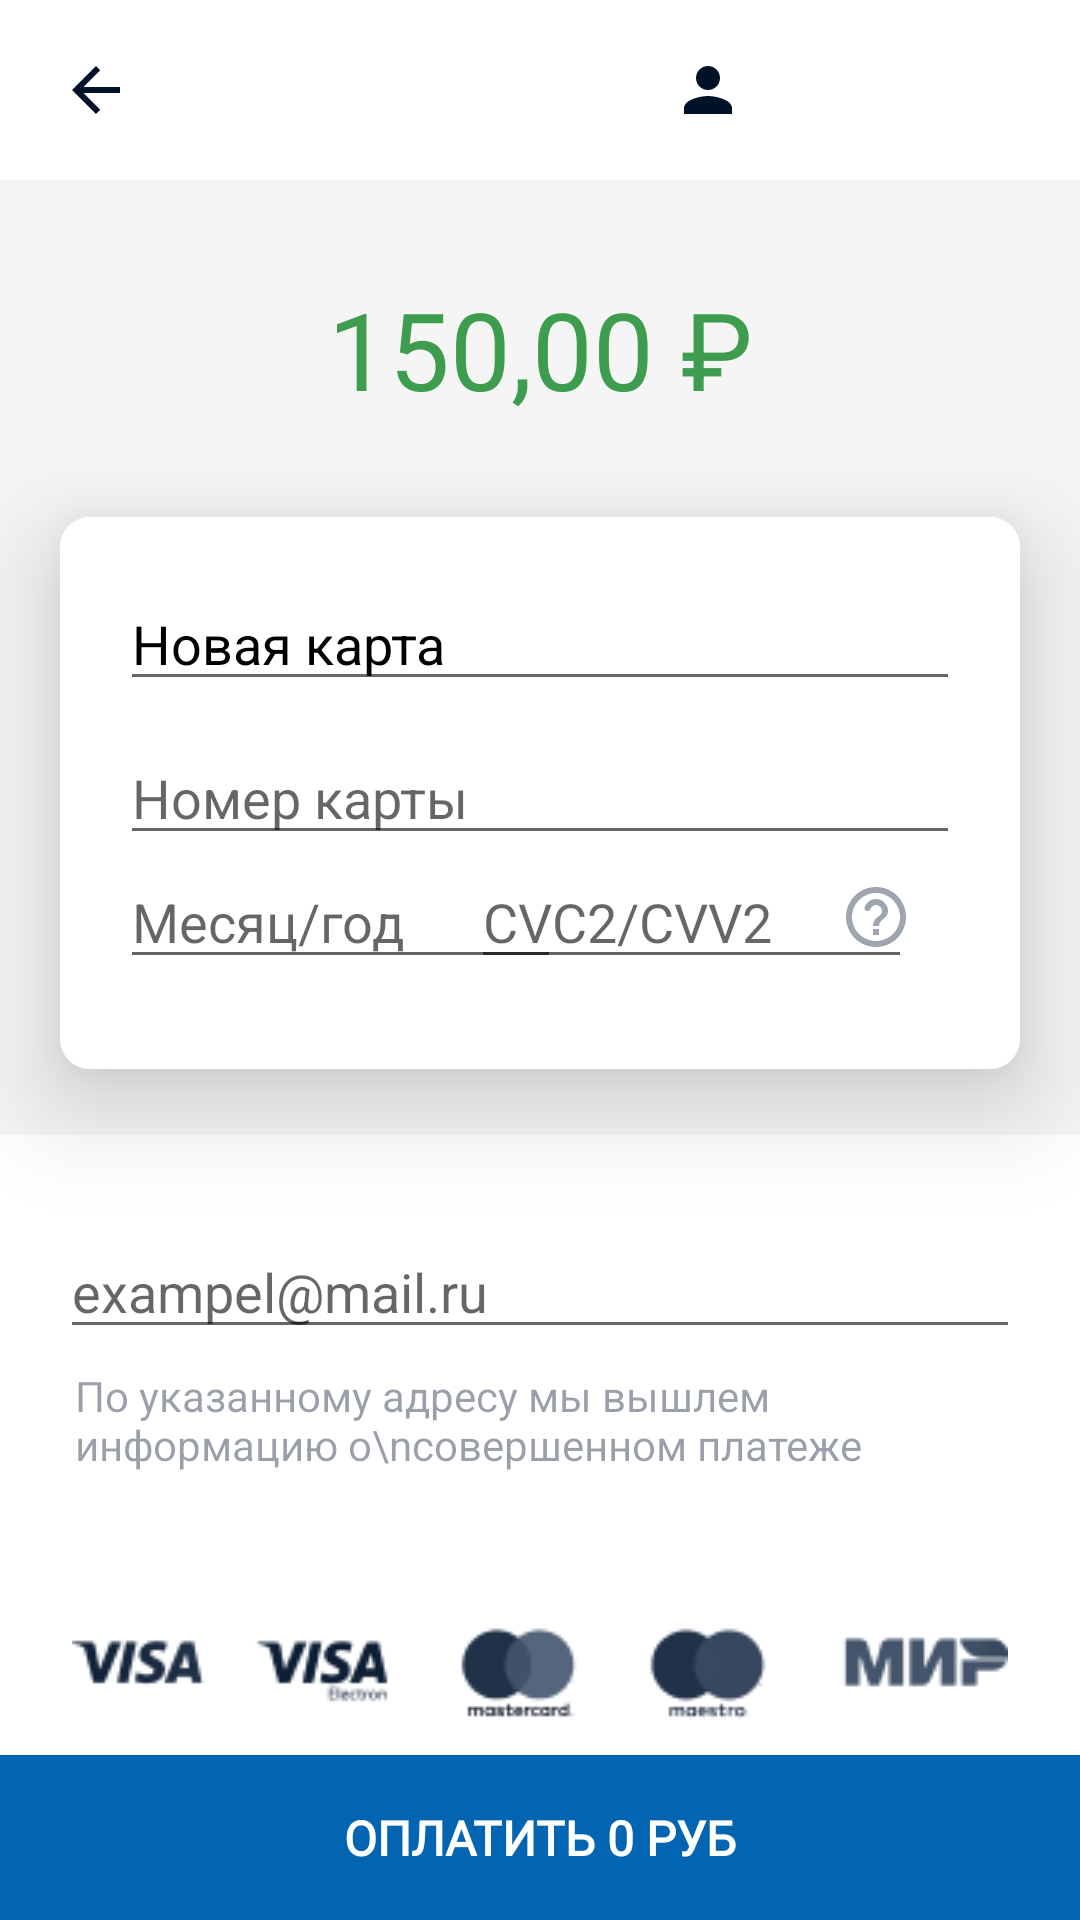

Screen size 1080x1920. Icon name, then its box in pixels as (x1, y1, x2, y2):
arrow back: (72, 66, 120, 114)
help: (846, 887, 906, 947)
person: (684, 66, 732, 114)
